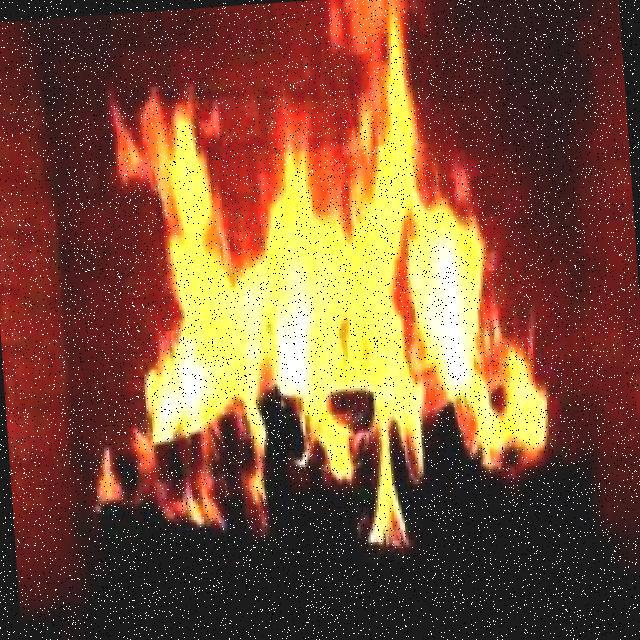Fire: (138, 27, 467, 443)
